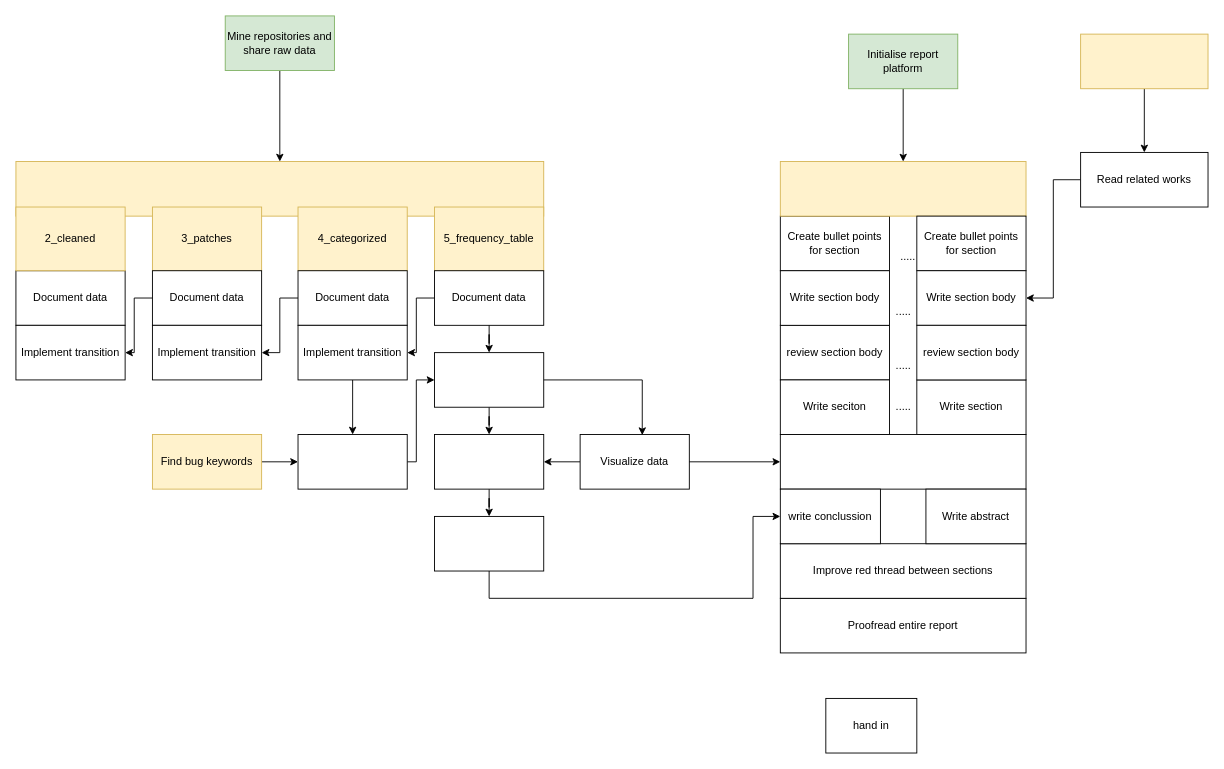
Image size: 1224x769. Some labels were removed from this diagram. The box of each missing label's shape, as (x1, y1, x2, y2) in pixels:
Add visual graphs and diagrams: (779, 434, 1026, 489)
Analyze results: (434, 352, 544, 407)
Define data stage formats: (15, 161, 544, 216)
Define report structure: (779, 161, 1026, 216)
Draw conclussions: (434, 516, 544, 571)
find related works: (1080, 33, 1208, 89)
Interpret analytics: (434, 434, 544, 489)
Test keywords on data: (297, 434, 407, 489)
